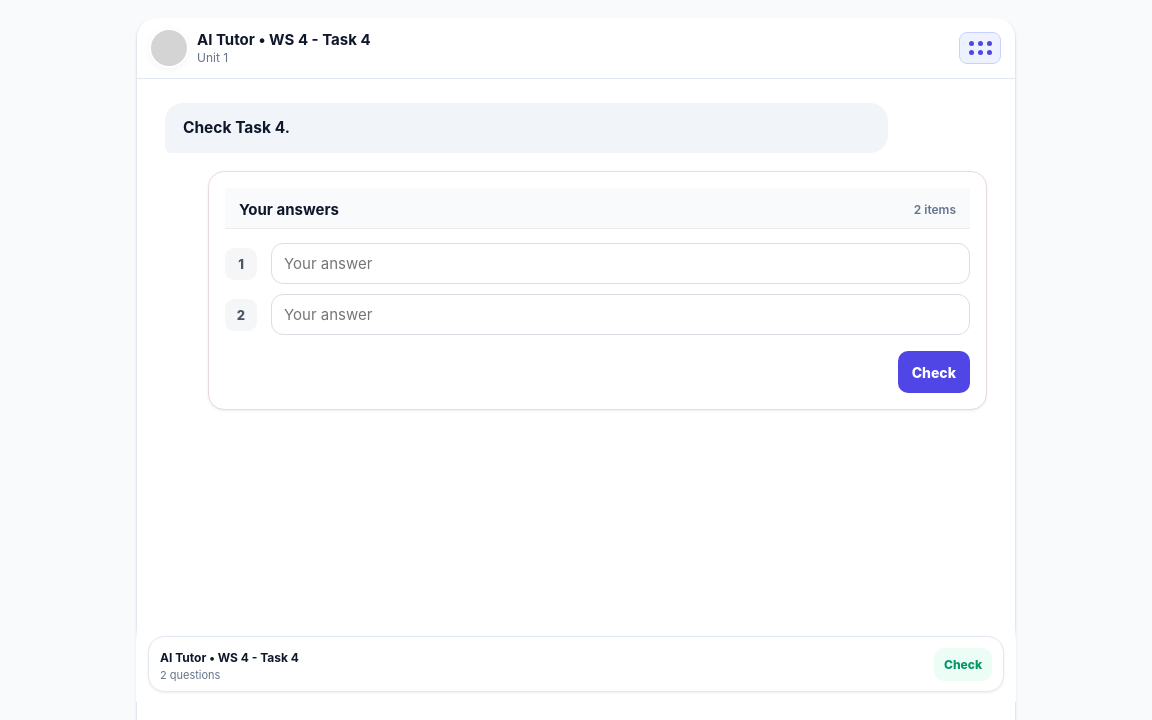
Test: Form 2 Fill rendering and letter/word answer support › grades Task 60144 sequence format flexibly (comma, space, hyphen)
Note: Học sinh nhập cách nhau bằng dấu phẩy và khoảng trắng
Type "b, c, d, a" into the 1st field with placeholder "Your answer" at [620, 264], box [271,243,970,284]
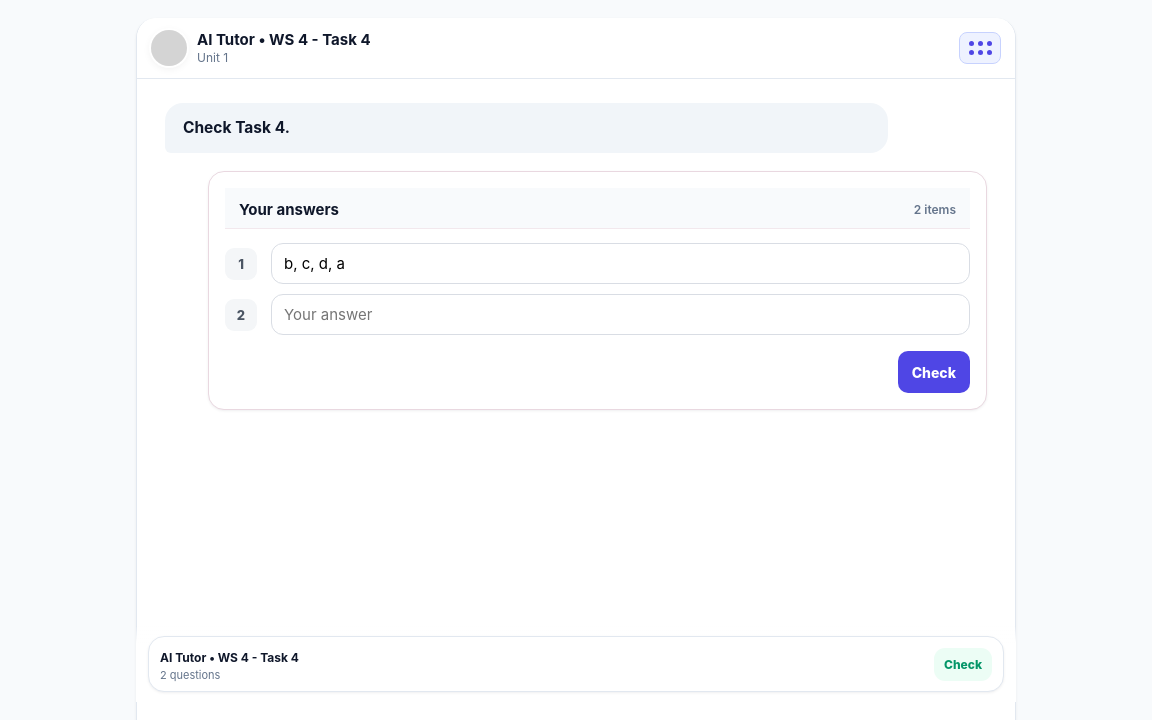
Type "c a d b" into the field with placeholder "Your answer" at [620, 314], box [271,294,970,335]
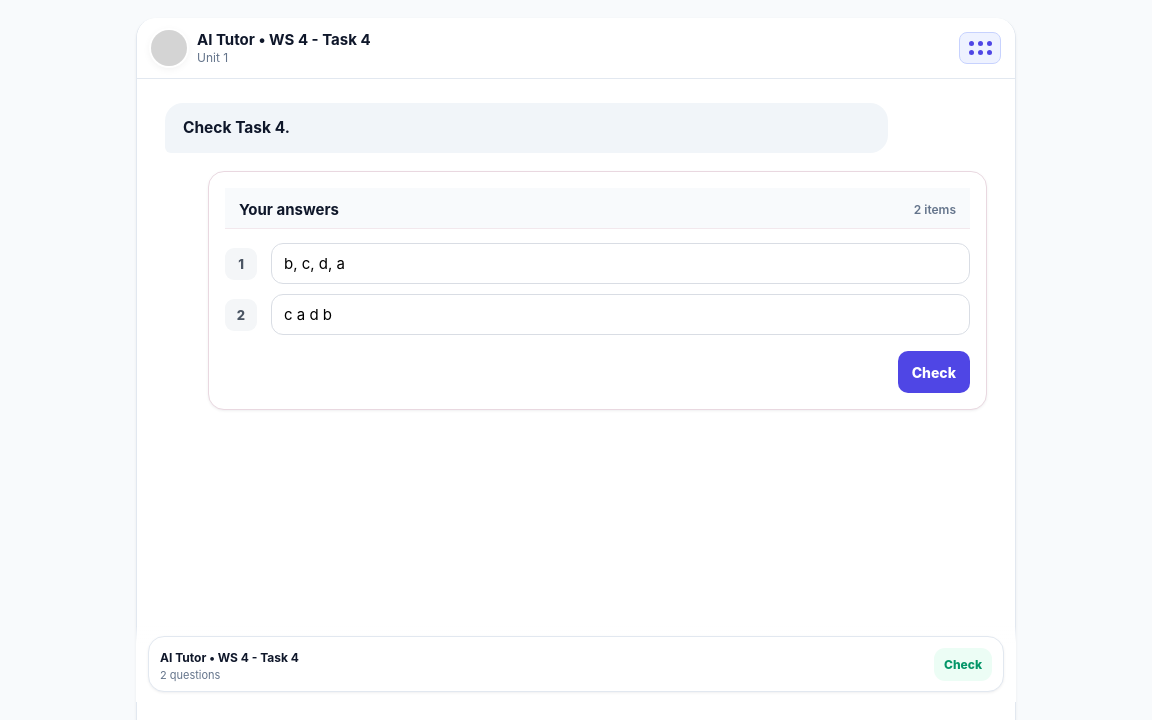
Click the button with id "initialCheckBtn" at [934, 372], box [898,351,970,393]
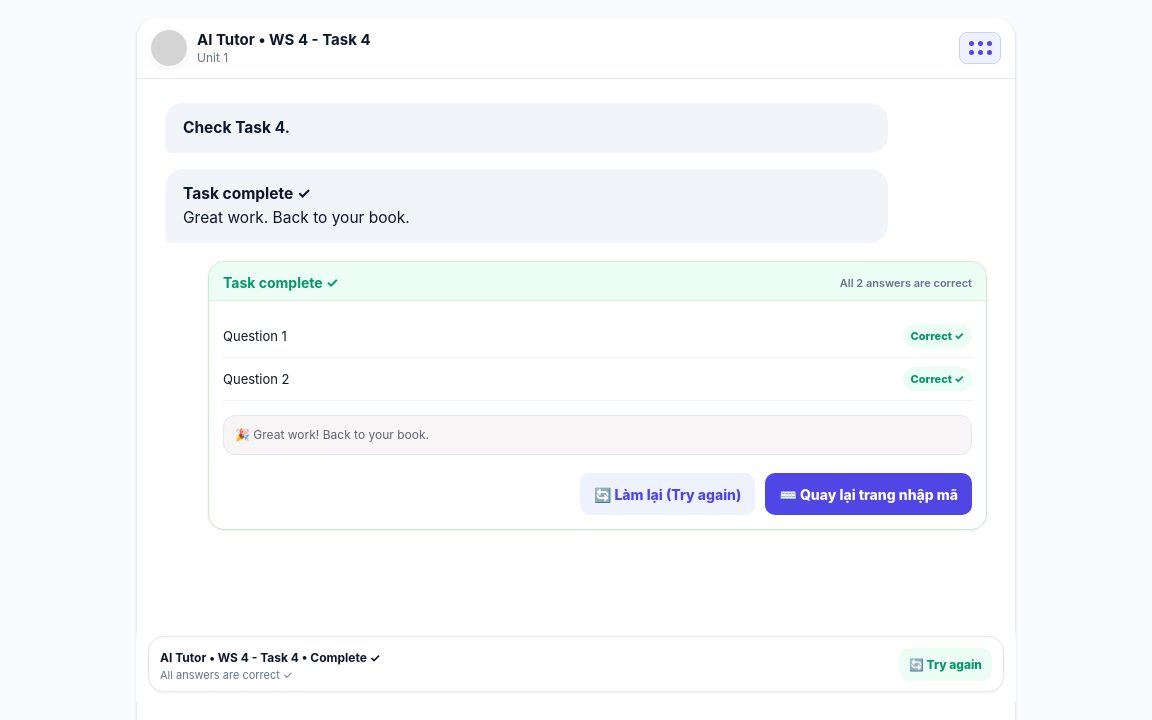
Expected: the text "Task complete ✓" is shown, [183,184,311,203]
